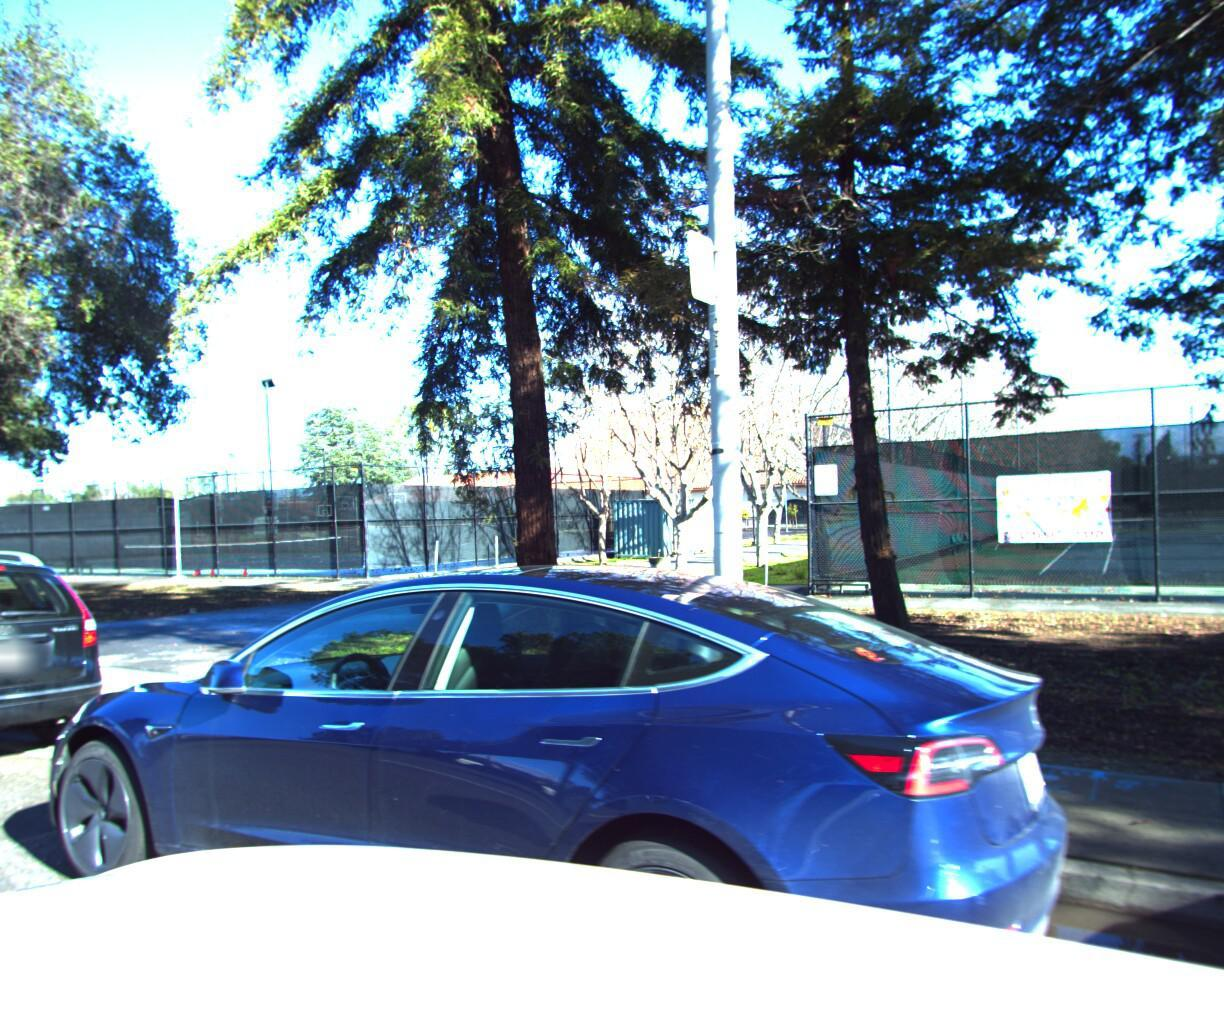car: (0, 538, 1086, 1024), (0, 535, 142, 807)
